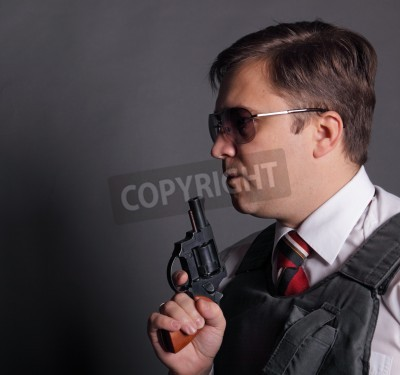Revolver: (150, 175, 233, 354), (150, 195, 233, 354)
